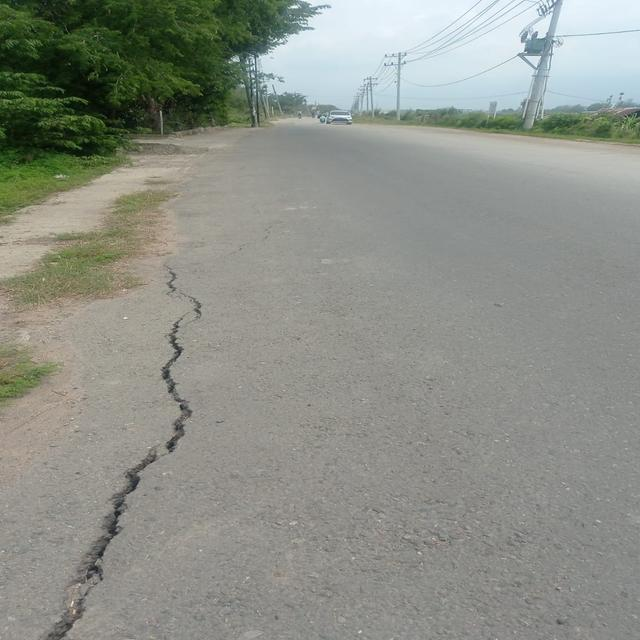Memanjang: (27, 259, 208, 640)
